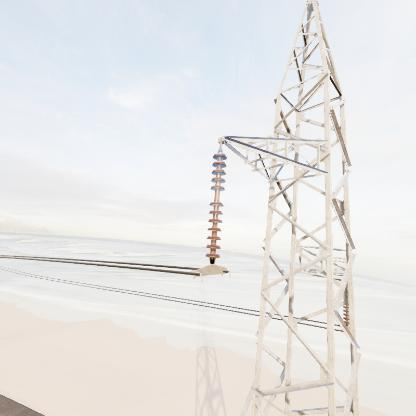insulator: (204, 148, 229, 267)
